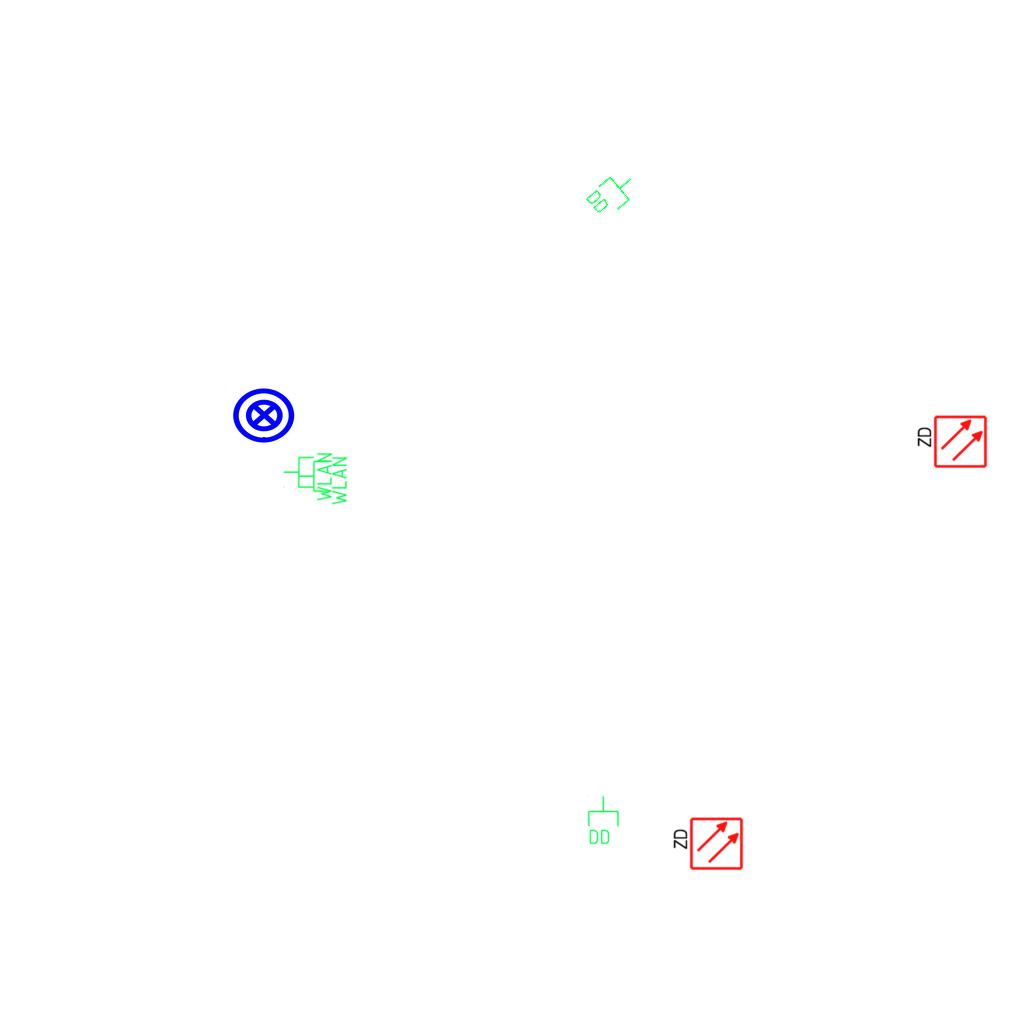Datenanschluss_zweifach: (582, 164, 643, 224), (586, 795, 620, 846)
Taster_beleuchtet: (231, 382, 297, 448)
WLAN: (282, 451, 334, 503), (297, 455, 349, 507)
ZD_Melder_in_Zwischendecke_mit_Revisionsoeffnung_mind_40_x_40_cm: (914, 414, 988, 471), (670, 816, 744, 873)
